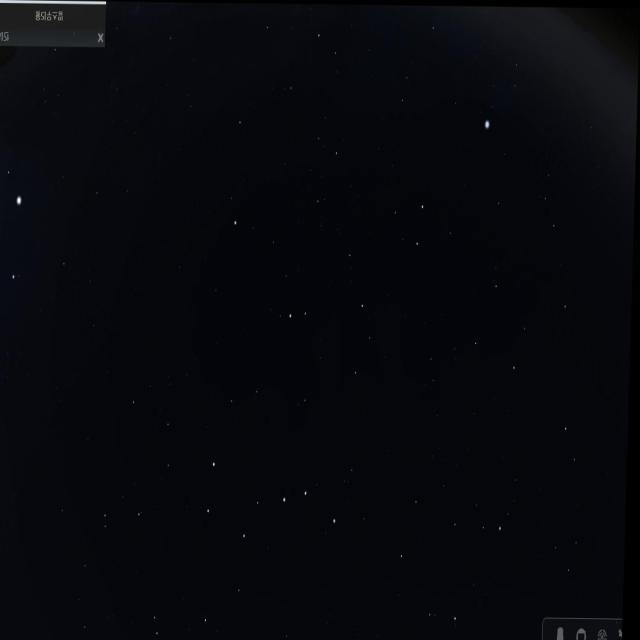lyra: (479, 44, 526, 144)
ursa_major: (202, 439, 343, 559)
